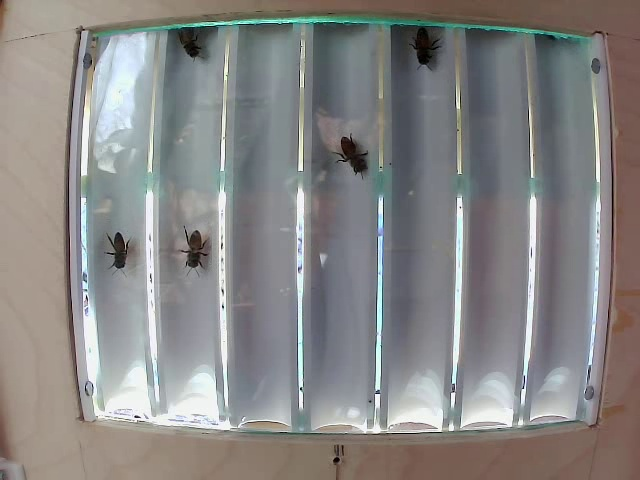bee: (327, 126, 379, 187), (175, 221, 218, 285), (180, 26, 219, 68), (97, 220, 131, 265), (412, 24, 440, 65)
